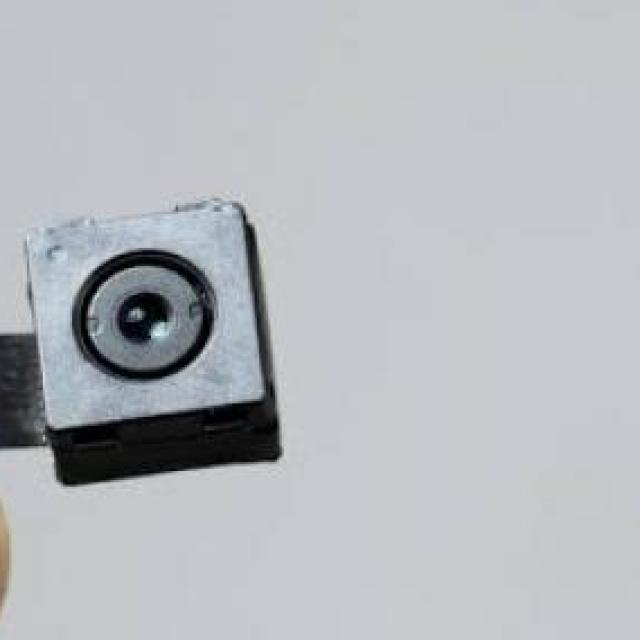hidden camera: (32, 231, 262, 414)
